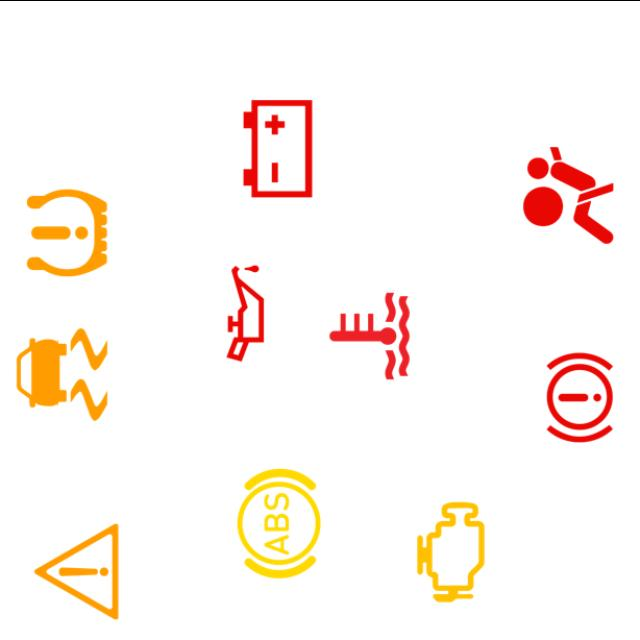Anti Lock Braking System: (219, 462, 339, 582)
Braking System Issue: (520, 336, 640, 456)
Charging System Issue: (218, 88, 338, 208)
Check Engine: (391, 491, 511, 611)
Electronic Stability Problem -ESP-: (2, 314, 122, 434)
Engine Overheating Warning Light: (310, 275, 430, 395)
Low Engine Oil Warning Light: (186, 252, 306, 372)
Low Tire Pressure Warning Light: (7, 172, 127, 292)
Master warning light: (17, 510, 136, 630)
SRS-Airbag: (508, 134, 628, 254)
